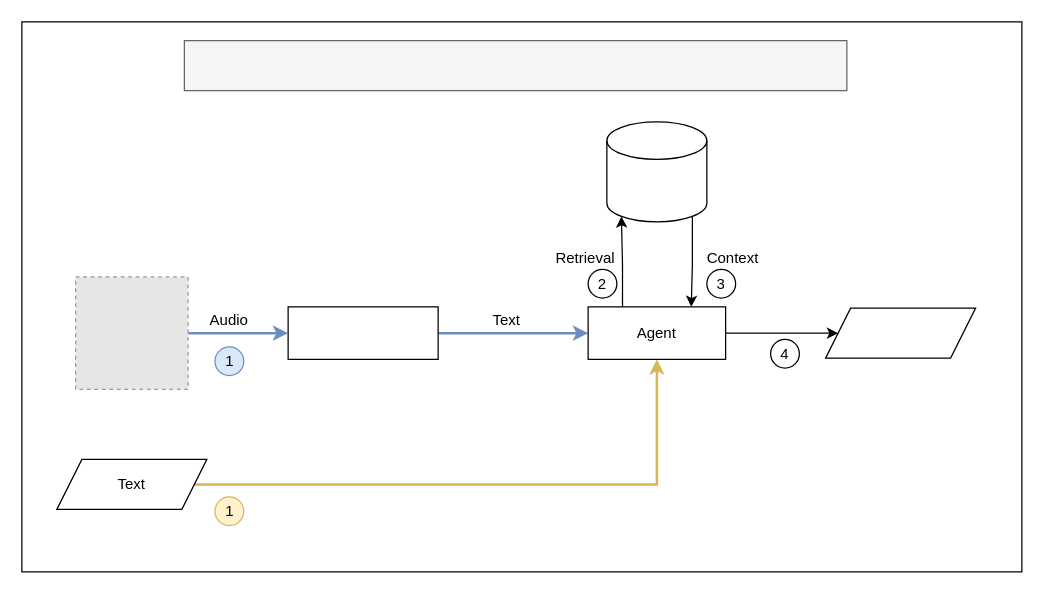
Image size: 1044x594. Some labels were removed from this diagram. Grey dashed boxes stand in for pictures. The centre of each missing label's shape, as x and y in pixels:
"Answer" goes at (x=900, y=332).
"External Knowledge" goes at (x=656, y=171).
"High Level Chatbot Flow" goes at (x=515, y=65).
"Speech2Text" goes at (x=362, y=332).
